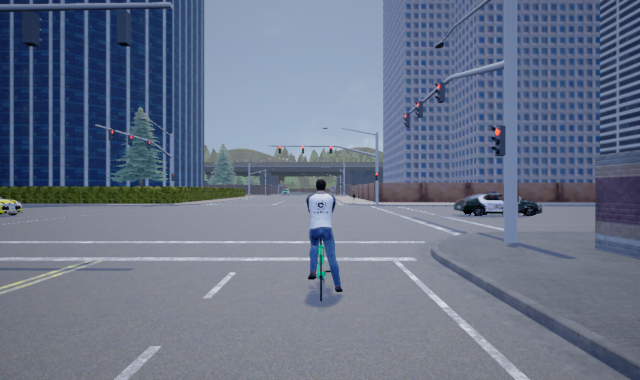bike: (305, 177, 343, 308)
traffic_light: (491, 125, 506, 156), (434, 79, 446, 105), (415, 99, 423, 117), (403, 111, 411, 128), (108, 127, 115, 144), (128, 133, 134, 146), (146, 138, 152, 150), (328, 144, 334, 156), (374, 171, 380, 181), (278, 144, 283, 155), (300, 144, 306, 153)
vehicle: (452, 193, 542, 216), (1, 192, 22, 217)
